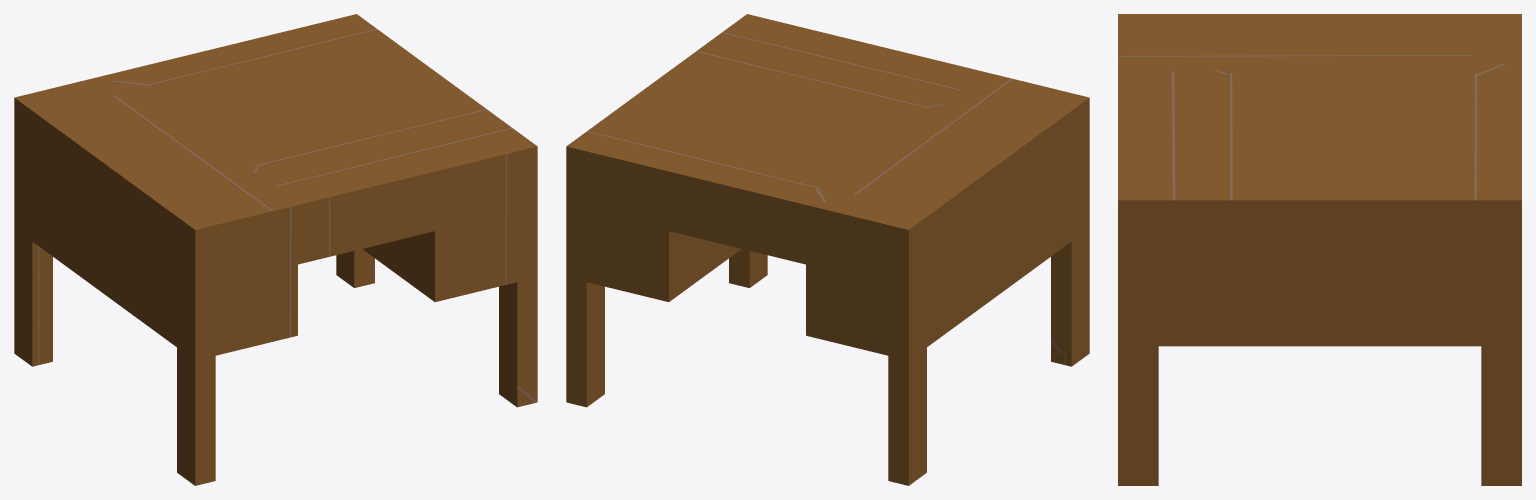
Rendered from Desk.fbx.
3 renders of one model, left to right at view 1: azimuth 30°, elevation 25°; view 2: azimuth 150°, elevation 25°; view 3: azimuth 270°, elevation 25°, orthographic. The views are drawn at different scales.
Parts seen in each view (by area): view 1: desk_Low; view 2: desk_Low; view 3: desk_Low.
Part boxes in pixels (bbox=[...]): desk_Low: bbox=[14, 14, 537, 485]; desk_Low: bbox=[566, 14, 1089, 485]; desk_Low: bbox=[1118, 14, 1521, 485].
Bounding box in the file's own units: 18.89 × 13.49 × 17.29.
